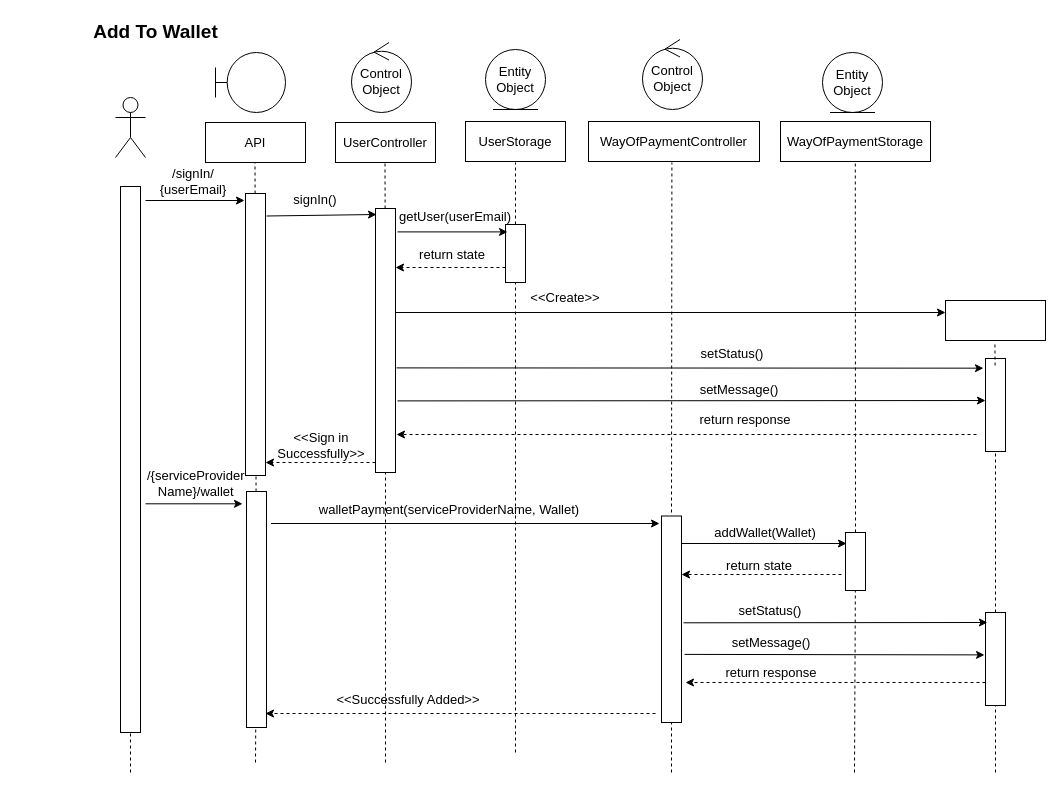
Some shapes in this 1063 by 791 pixel diagram are drawn without their labels. The centre of each missing label's shape, as x and y in pixels:
Boundary Object: the point at 250,82
Response: the point at 995,320
User: the point at 130,127
